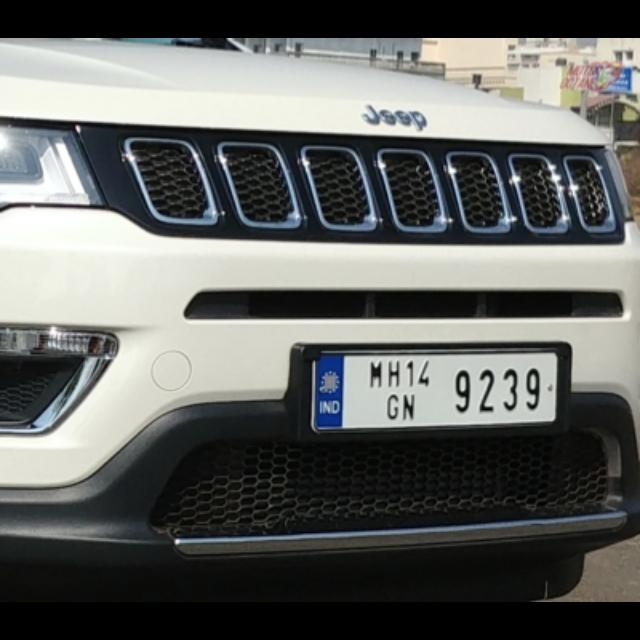carPlate: (291, 345, 571, 433)
